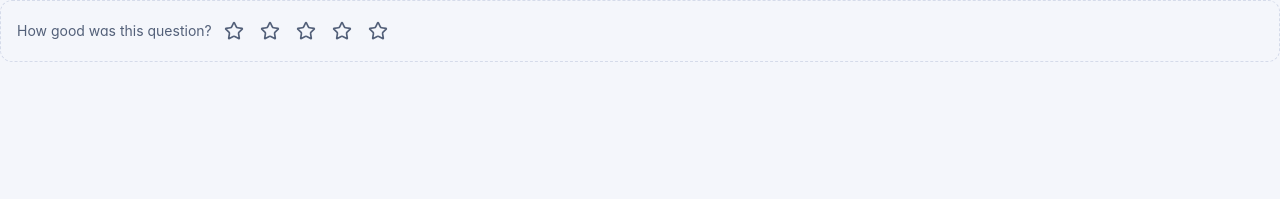
Test: Rating › says so when the feedback could not be sent, and keeps what was entered
Click the radio button named "5 of 5 stars" at (378, 31), box [360, 13, 396, 49]
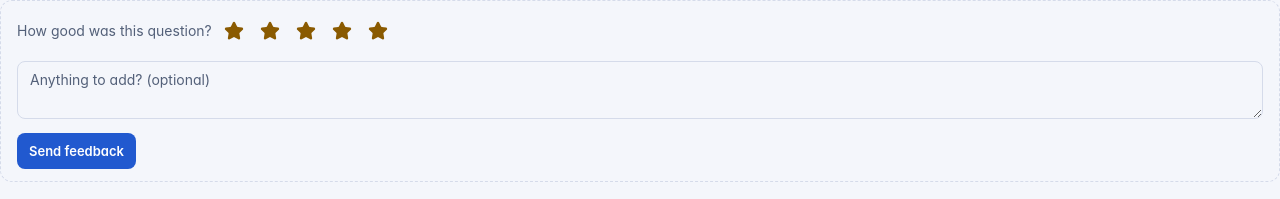
Click the button "Send feedback" at (76, 151), box [17, 133, 136, 169]
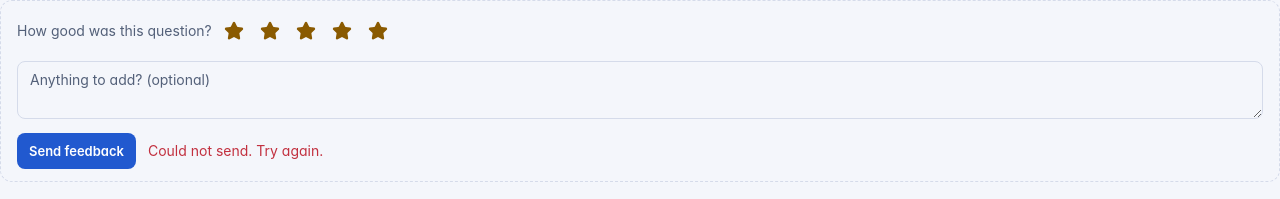
Result: the message reads "Could not send. Try again." at [148, 142, 323, 159]
